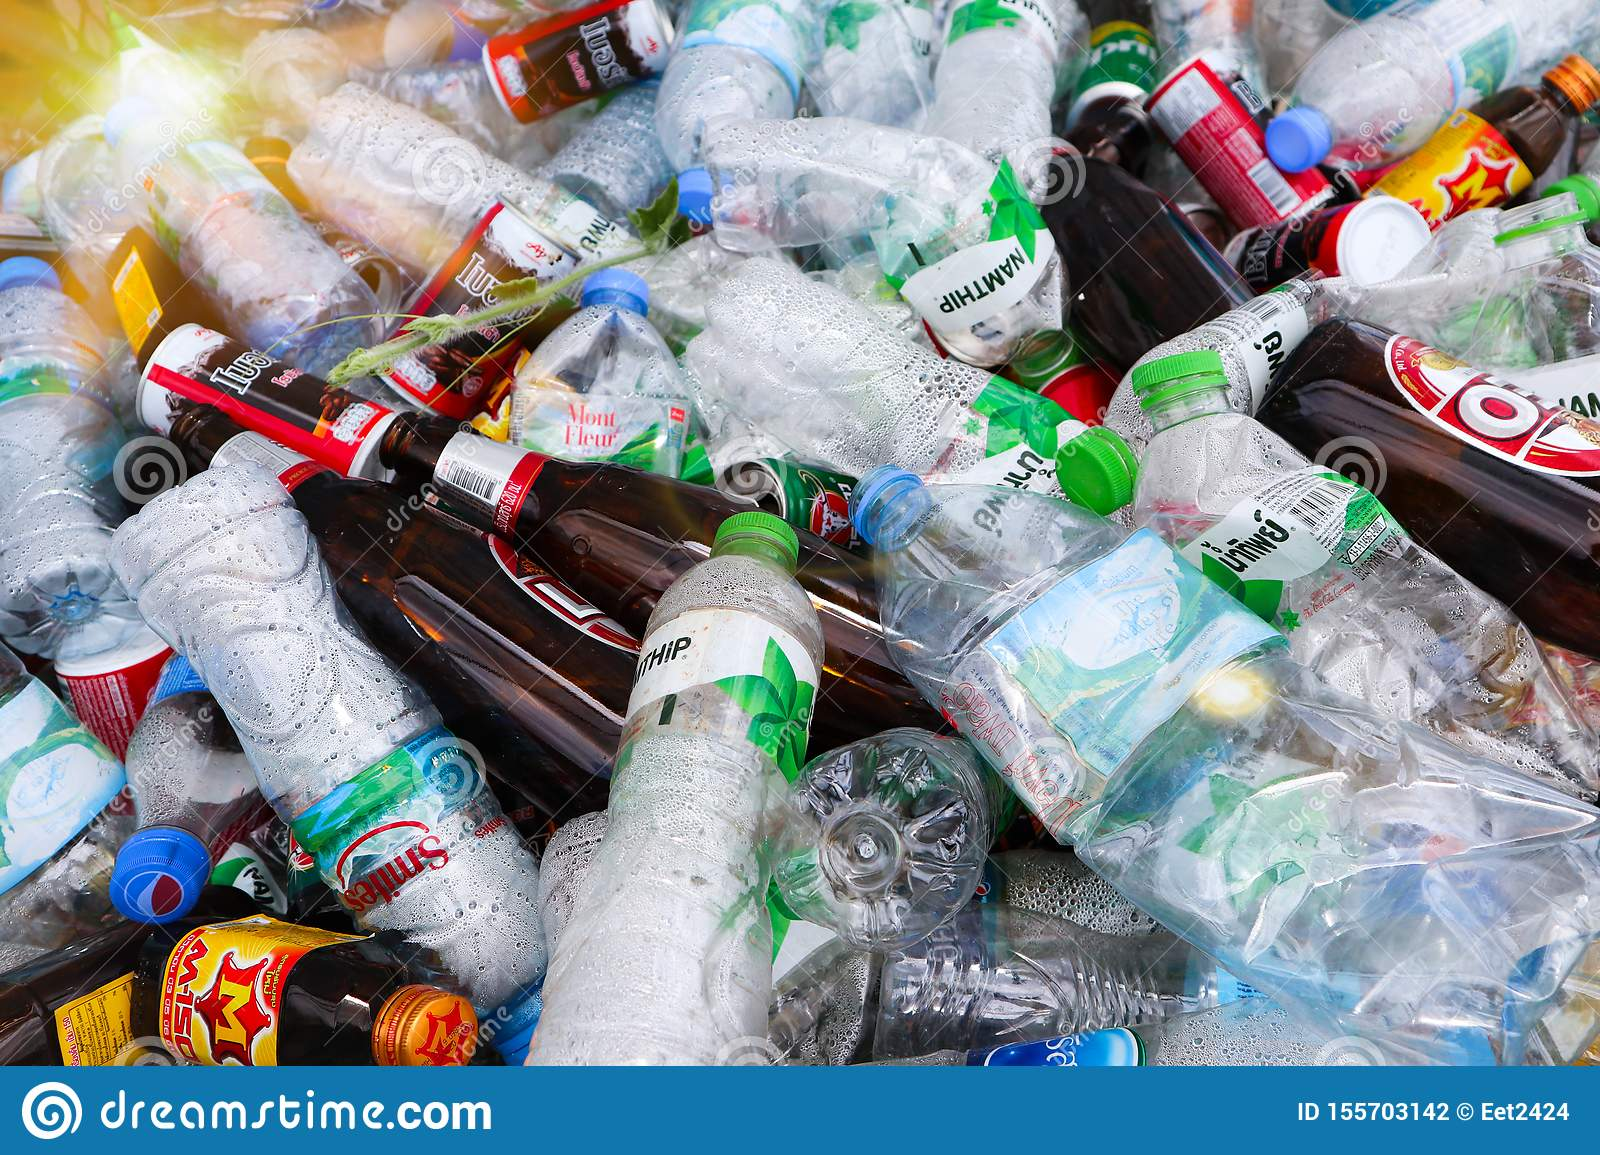plastic_bottle: (824, 375, 1600, 1095), (593, 4, 1520, 582), (34, 411, 802, 1054), (476, 419, 1118, 1143), (1106, 118, 1600, 871), (789, 4, 1334, 534), (237, 48, 780, 546), (37, 538, 675, 954), (86, 7, 502, 564), (978, 191, 1465, 618), (1, 232, 421, 717), (891, 1, 1294, 419), (666, 618, 1207, 929), (829, 806, 1456, 1030), (743, 895, 1335, 1092), (460, 160, 766, 476), (313, 7, 594, 343), (1205, 1, 1600, 205)
